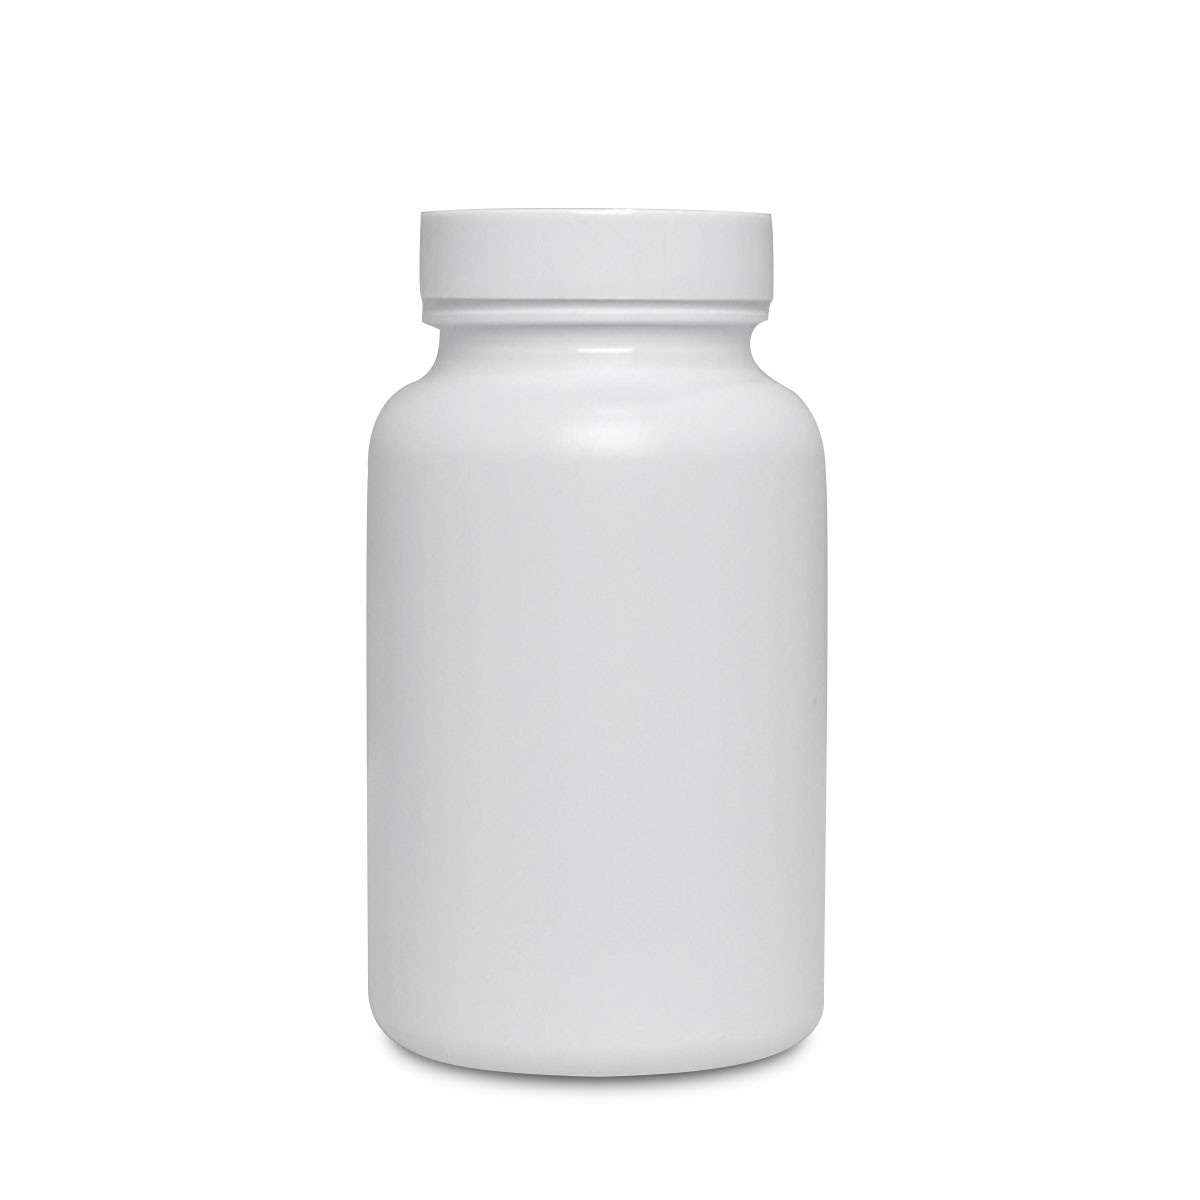emptybottle: (369, 210, 825, 1080)
